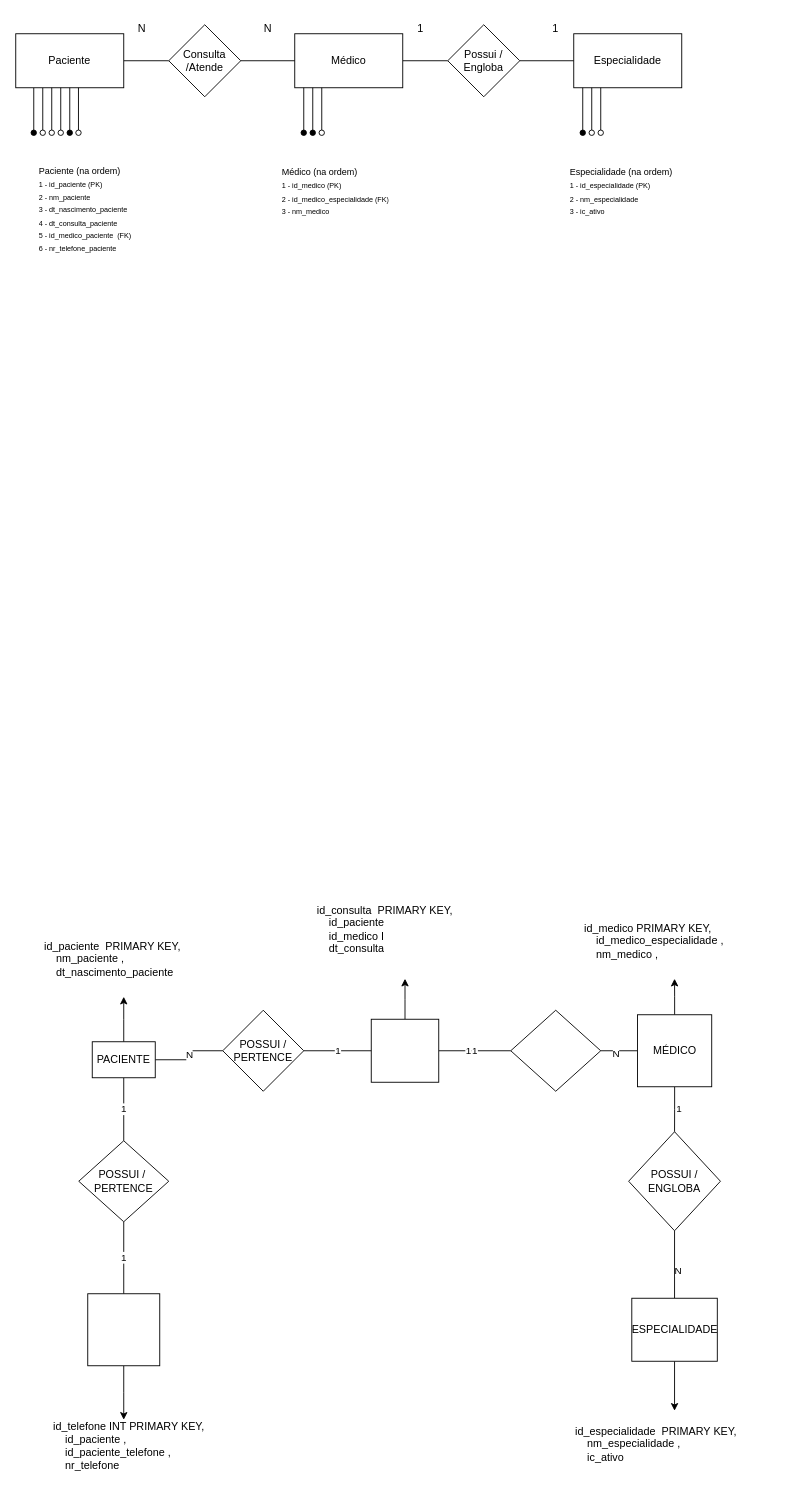
Image size: 806x1501. Some labels were removed from this diagram. Here are the shapes that lost their labels. From the top down, the centre of each, then its label:
the point at 404,1050: CONSULTA
the point at 555,1050: PERTENCE / POSSUI
the point at 123,1329: TELEFONE
